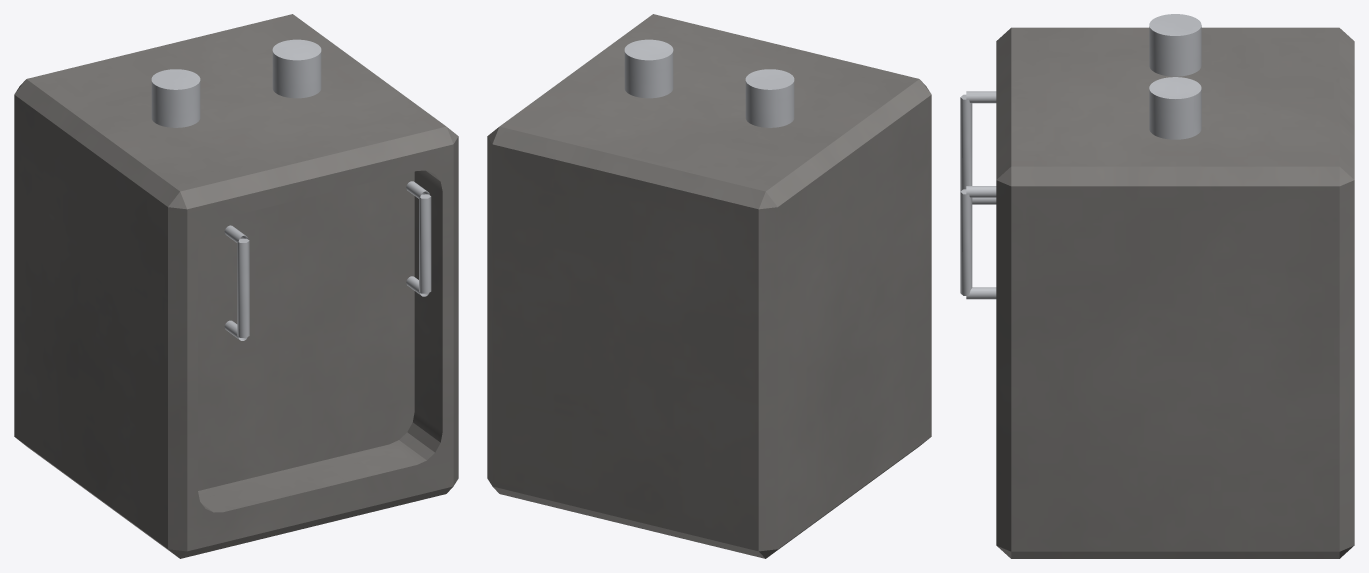
Rendered from ax_power_13_pmad_unit_small.glb.
The picture shows the model from 3 angles, left to right: view 1: azimuth 30°, elevation 25°; view 2: azimuth 150°, elevation 25°; view 3: azimuth 270°, elevation 25°; orthographic projection. The views are drawn at different scales.
Parts seen in each view (by area): view 1: slot_housing, connectors, handles; view 2: slot_housing, connectors; view 3: slot_housing, connectors, handles.
Part boxes in pixels (x1,y1,x2,y2): slot_housing: (14,14,458,558); connectors: (151,39,321,127); handles: (224,181,431,340); slot_housing: (487,14,931,558); connectors: (624,39,794,127); slot_housing: (996,27,1354,558); connectors: (1149,14,1201,139); handles: (960,91,996,299).
Bounding box in the file's own units: 0.48 × 0.64 × 0.528.
2 materials, 2 textured.
